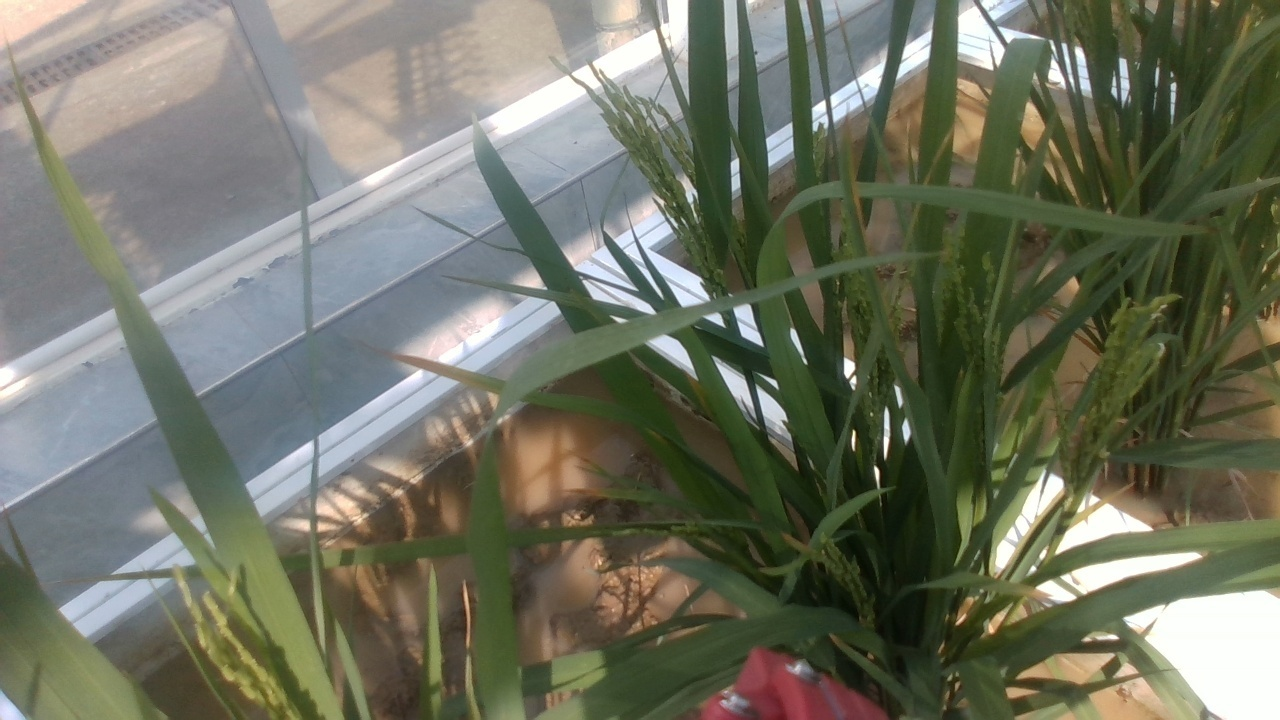panicle: (557, 49, 702, 230), (1062, 294, 1172, 457), (938, 254, 1017, 388), (839, 263, 905, 407), (806, 541, 872, 617)
